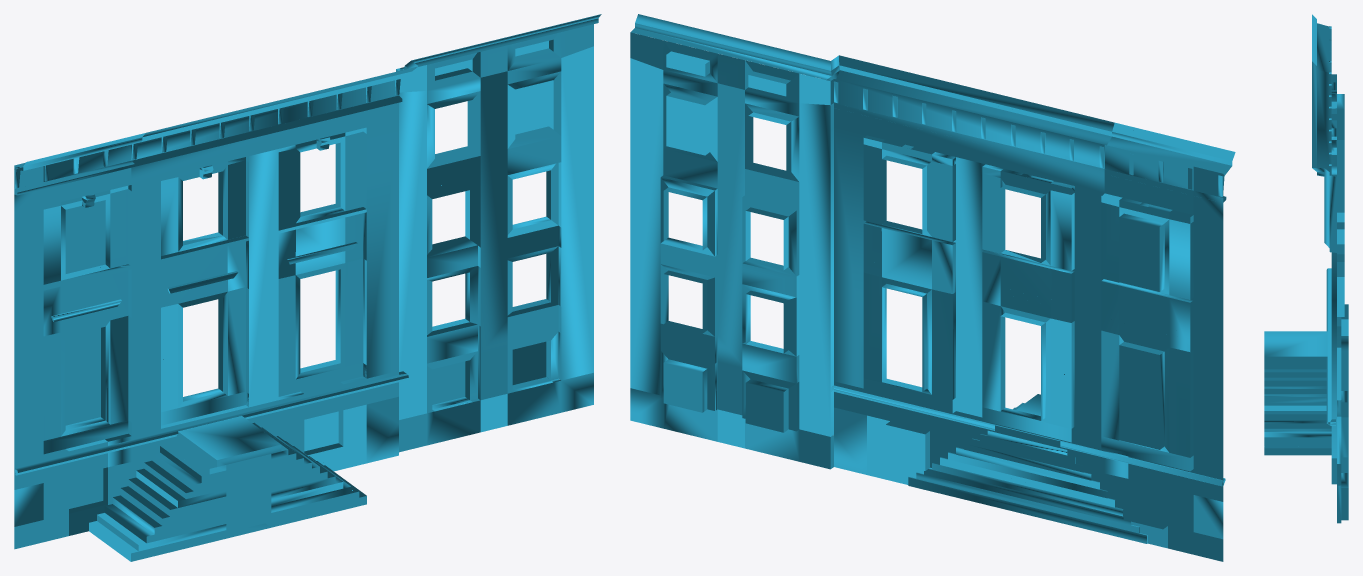
The model's file is FACADEs.dae.
3 renders of one model, left to right at view 1: azimuth 30°, elevation 25°; view 2: azimuth 150°, elevation 25°; view 3: azimuth 270°, elevation 25°, orthographic. The views are drawn at different scales.
Visible parts, largest first — view 1: FACADE__texture; view 2: FACADE__texture; view 3: FACADE__texture.
Boxes of the visible parts, x1,y1,x2,y2 form: FACADE__texture: (14,14,601,561); FACADE__texture: (630,14,1235,561); FACADE__texture: (1264,14,1348,523).
Size of the model in its own units: 1847 by 1200 by 288.
